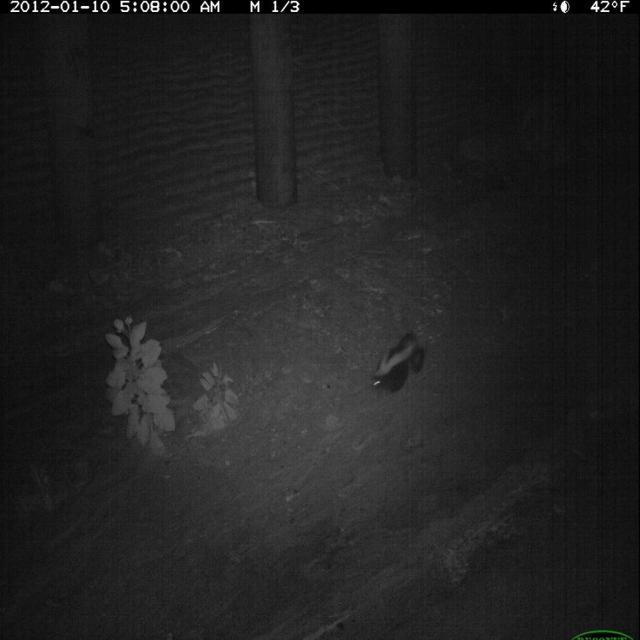skunk: (368, 325, 431, 404)
